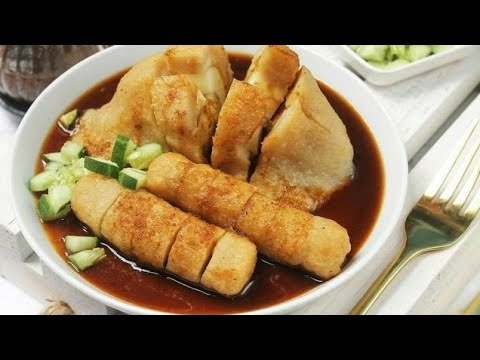pempek: (75, 46, 353, 300)
